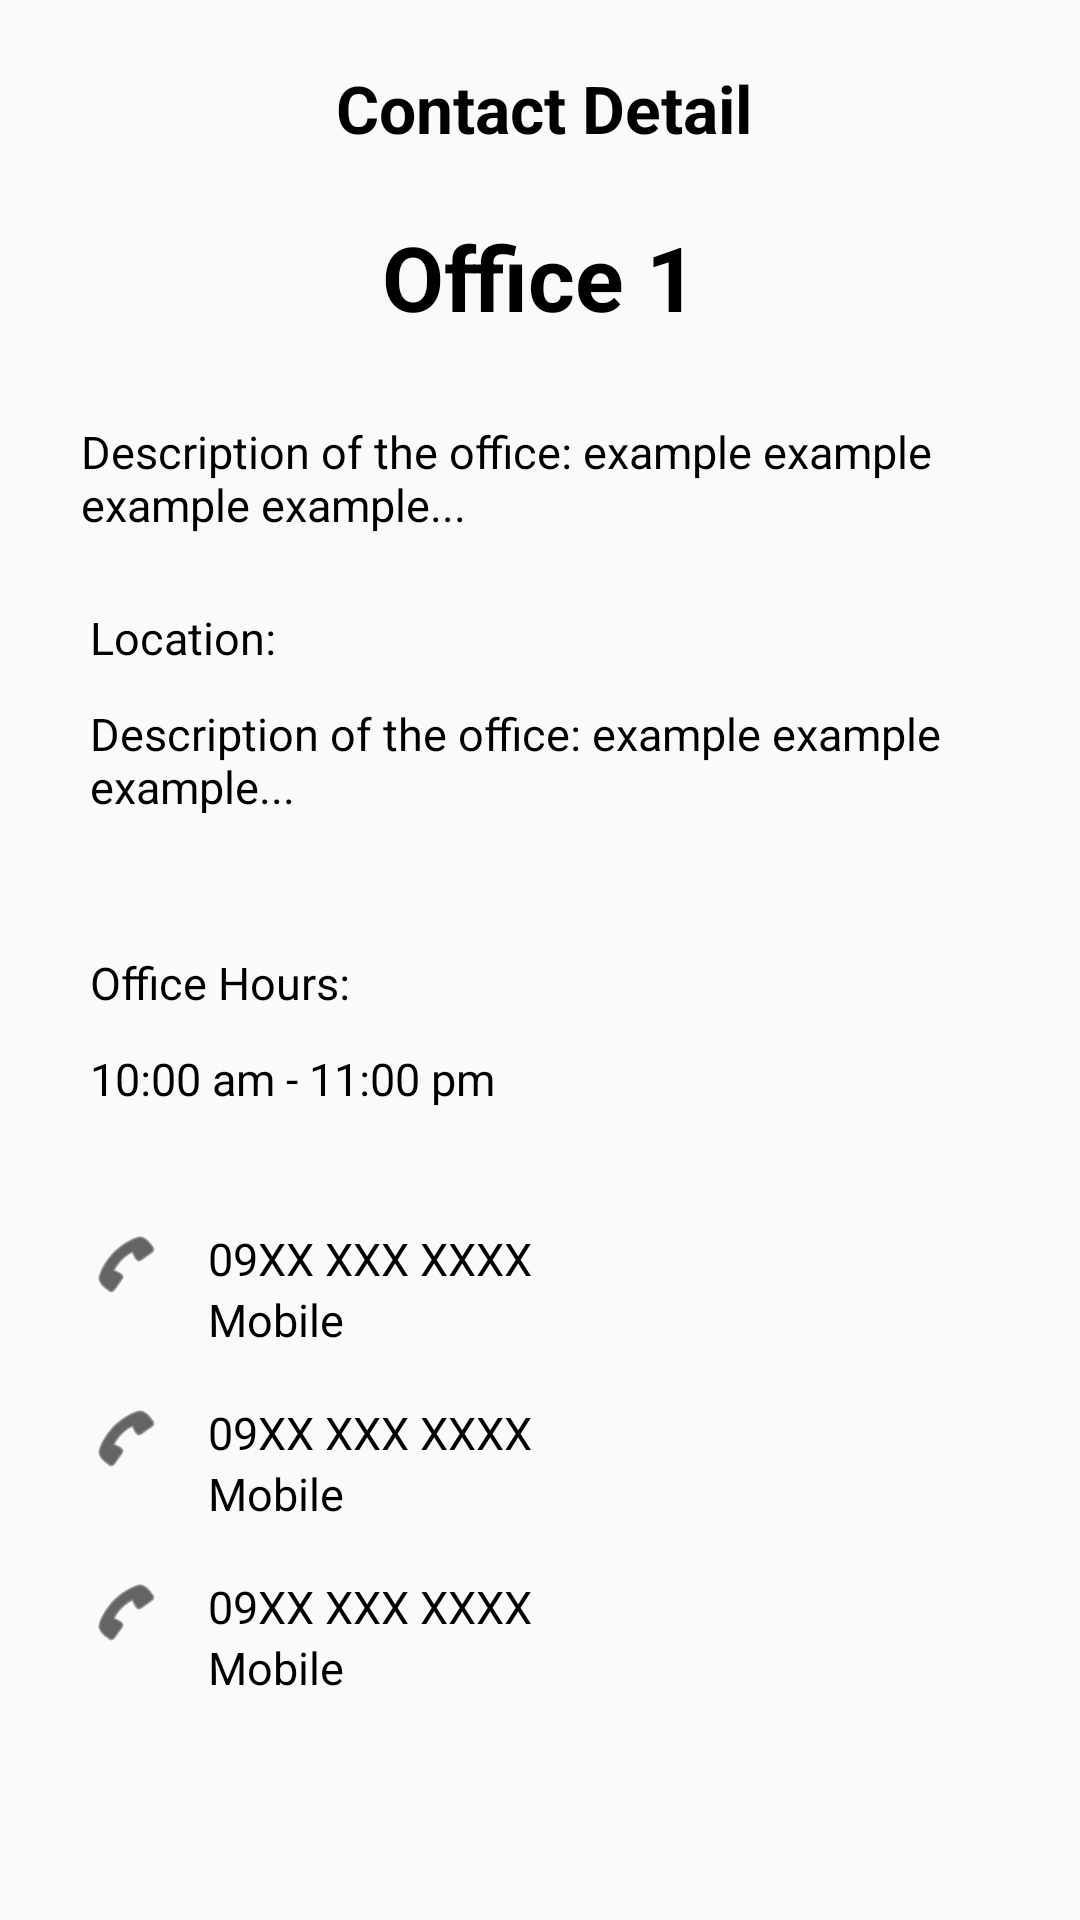

Named icons in this screenshot (1080px×1920px) and their bounding boxes, {"left": x1, "top": y1, "right": x2, "bottom": y2}:
call: {"left": 98, "top": 1236, "right": 155, "bottom": 1293}, {"left": 98, "top": 1410, "right": 155, "bottom": 1467}, {"left": 98, "top": 1584, "right": 155, "bottom": 1641}
